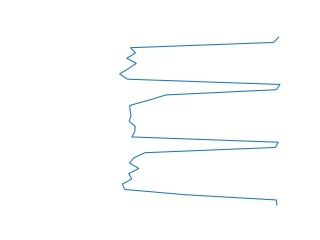majorRiverChannelBar: (118, 36, 284, 208)
